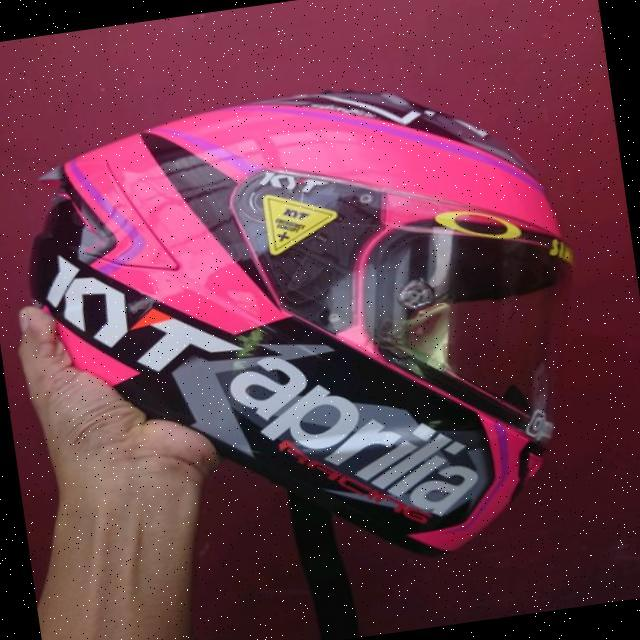Helm: (19, 56, 612, 612)
